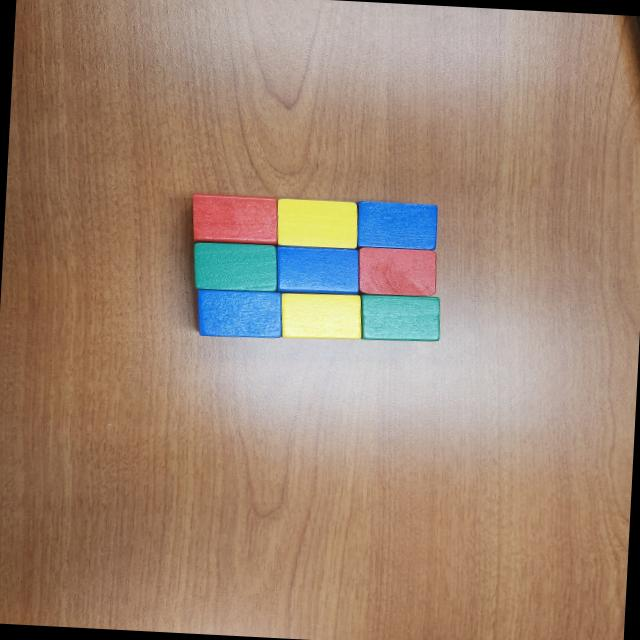blue: (192, 286, 285, 340), (274, 244, 362, 296), (352, 201, 440, 253)
green: (188, 240, 280, 294), (358, 292, 443, 344)
red: (190, 193, 280, 246), (357, 247, 437, 297)
yellow: (274, 197, 359, 250), (278, 291, 364, 341)
